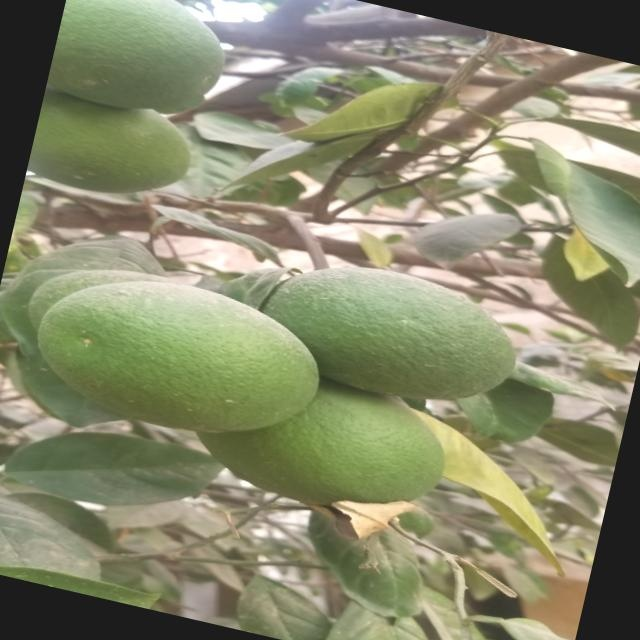agrume: (21, 253, 327, 461), (240, 238, 536, 434), (175, 347, 465, 545), (42, 0, 246, 139)
